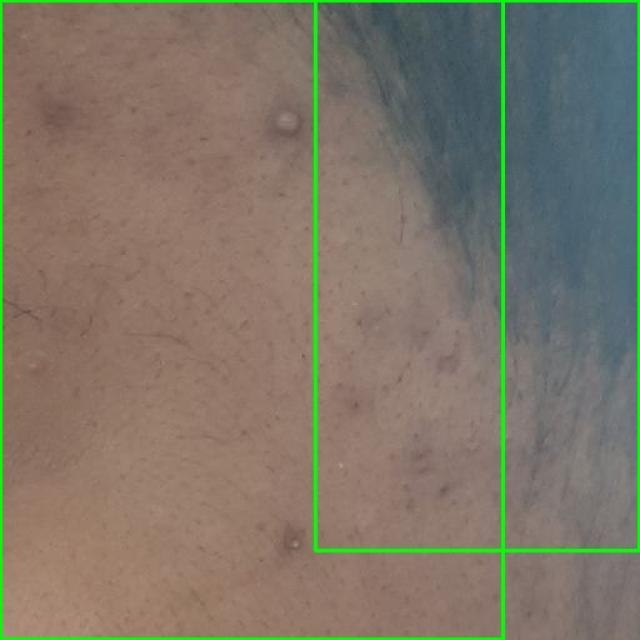Seborrheic Dermatitis: (0, 0, 502, 639), (315, 0, 639, 550)
